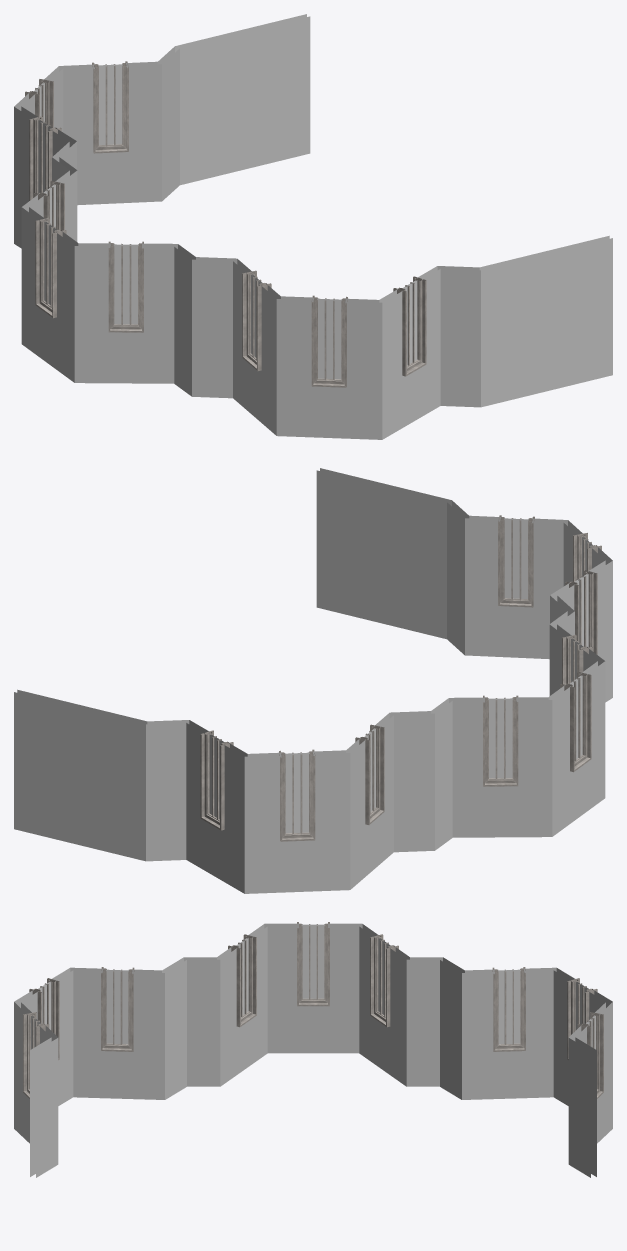
File: Ambulatory_Outer_F_F.fbx
3 renders of one model, top to bottom at view 1: azimuth 30°, elevation 25°; view 2: azimuth 150°, elevation 25°; view 3: azimuth 270°, elevation 25°, orthographic. The views are drawn at different scales.
Parts seen in each view (by area): view 1: Ambulatory_Outer_F_F; view 2: Ambulatory_Outer_F_F; view 3: Ambulatory_Outer_F_F.
Part boxes in pixels (bbox=[...]): Ambulatory_Outer_F_F: bbox=[14, 14, 612, 439]; Ambulatory_Outer_F_F: bbox=[14, 468, 612, 893]; Ambulatory_Outer_F_F: bbox=[14, 922, 612, 1177].
Bounding box in the file's own units: 19.02 × 25.64 × 6.
